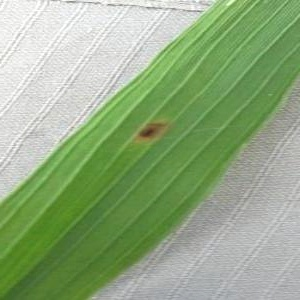Bacterial_Leaf_Blight: (130, 116, 174, 145)
